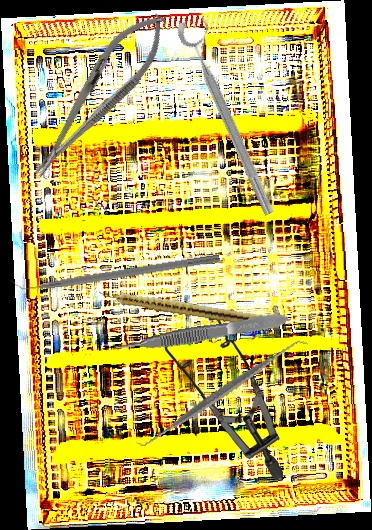Chopper: (8, 242, 221, 296)
Fixation Ring: (174, 12, 290, 219)
Handpiece: (97, 285, 282, 331)
Needle Holder: (16, 0, 181, 190)
Spatula Surgical: (135, 303, 309, 483)
Speculum: (154, 310, 289, 480)
Tissue Forceps: (112, 310, 290, 356)
